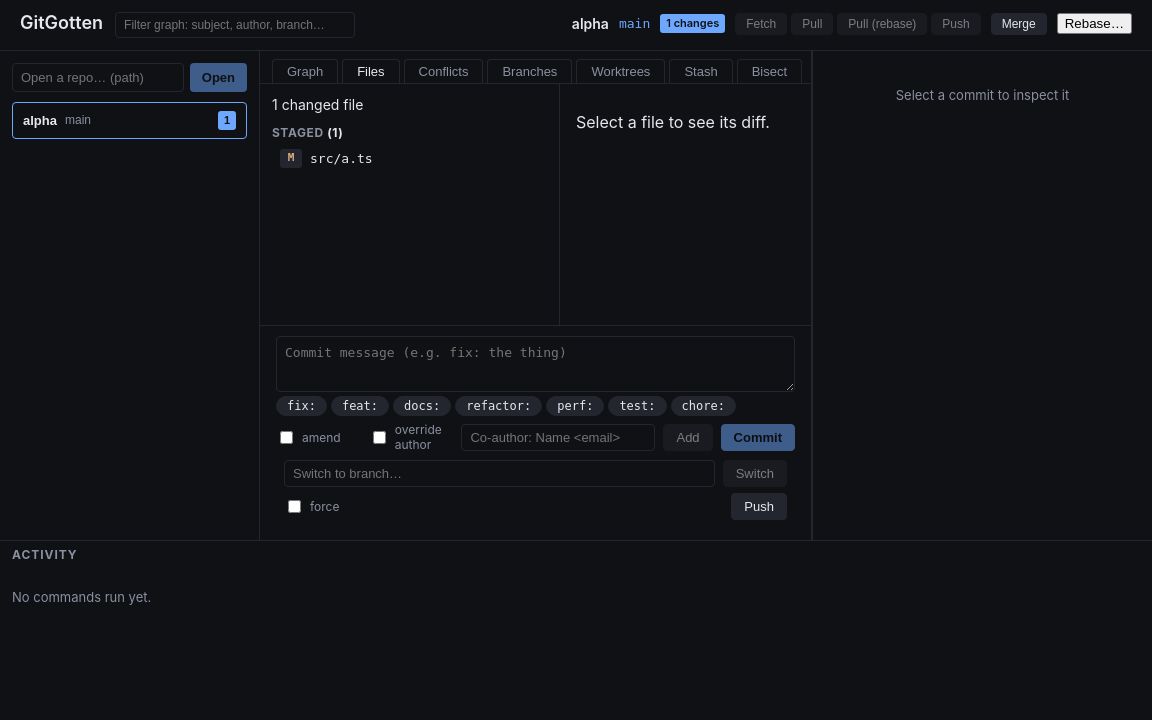
Test: commit flow: preview shows the exact command, confirm runs and records it
This screenshot has width=1152, height=720.
Expected: the button "Commit" is disabled, [721, 424, 795, 450]
Type "fix: thing" into the text box with placeholder "Commit message (e.g. fix: the thing)" at (536, 364), box [276, 336, 795, 392]
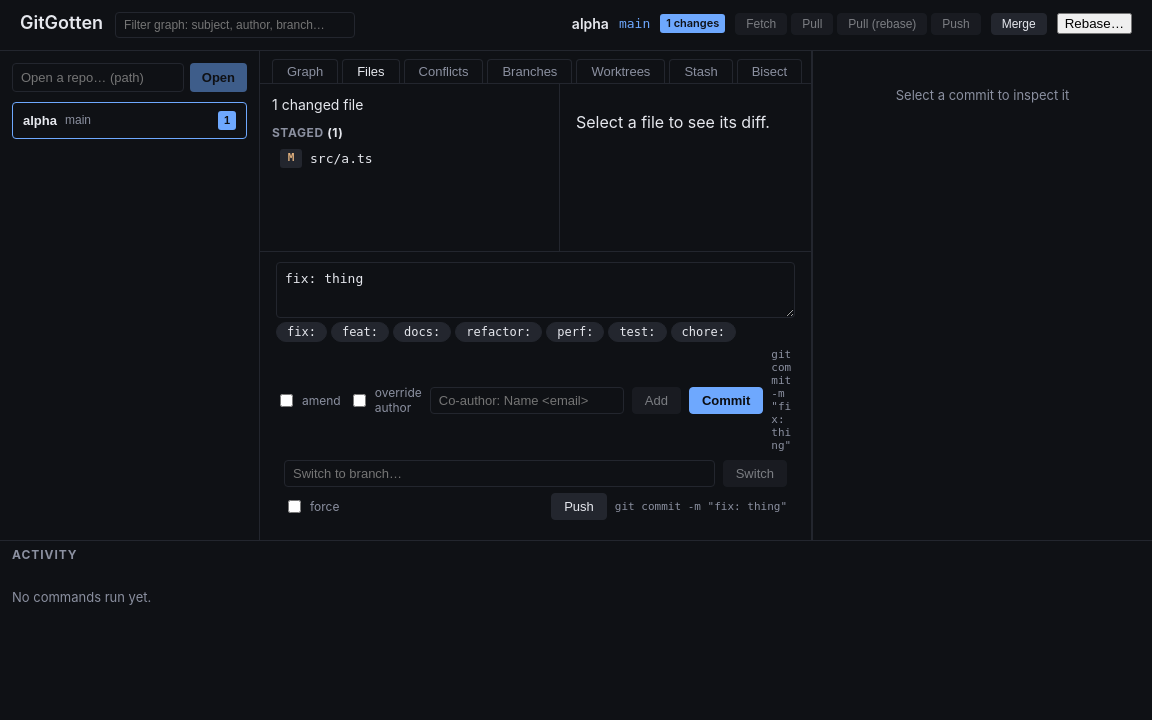
Expected: the button "Commit" is enabled
Expected: the text "git commit -m \"fix: thing\"" is shown, [771, 348, 791, 452]
Click the button "Commit" at (726, 400), box [689, 386, 763, 414]
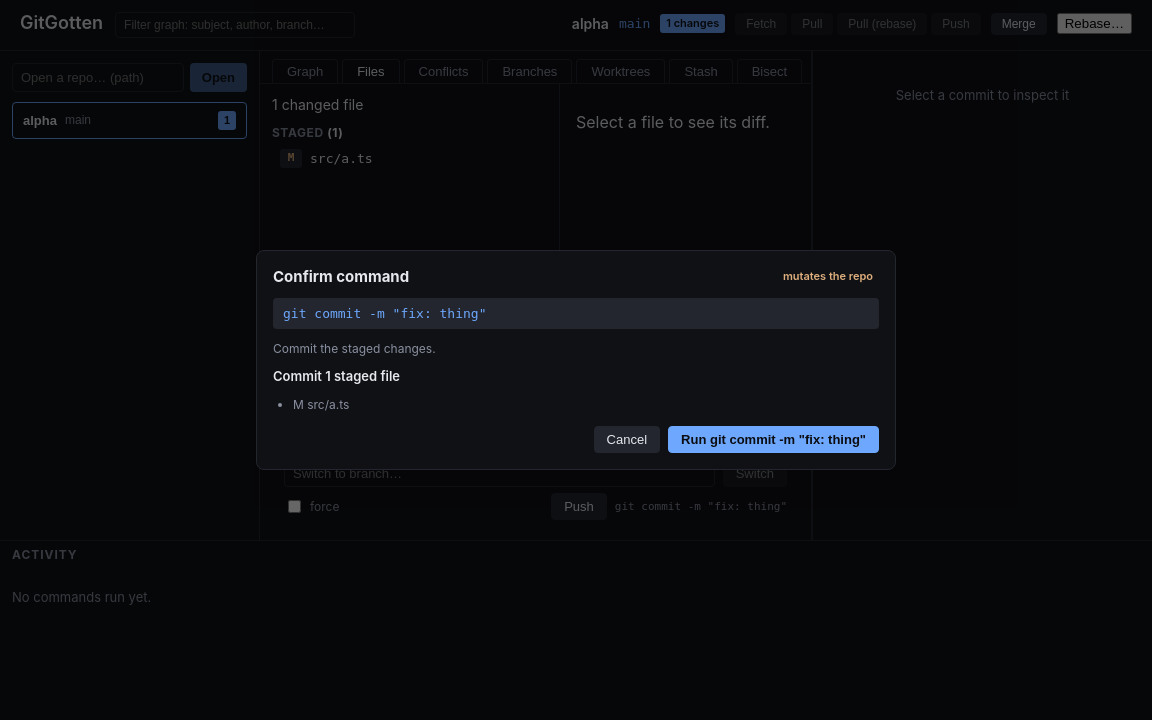
Expected: the dialog "Confirm command" shows "git commit -m \"fix: thing\"", [283, 306, 486, 321]
Expected: the dialog "Confirm command" shows "mutates the repo", [783, 269, 873, 283]
Click the button "Run git commit -m \"fix: thing\"" at (774, 440), box [668, 426, 879, 453]
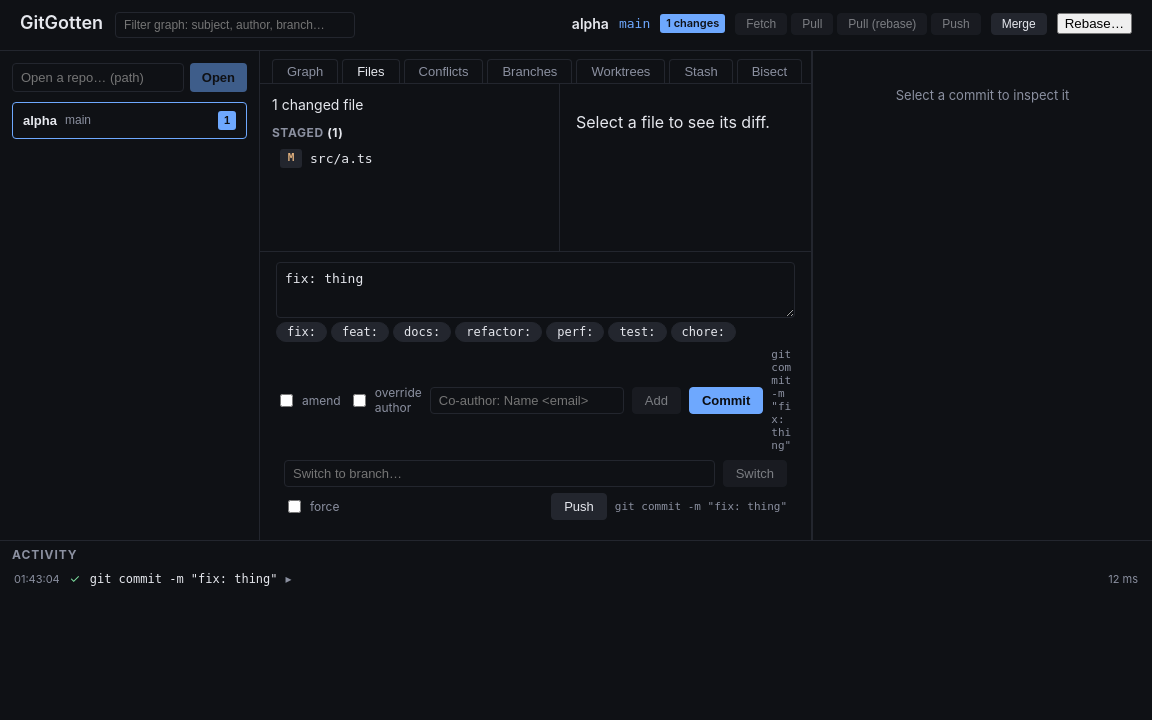
Expected: the dialog is gone
